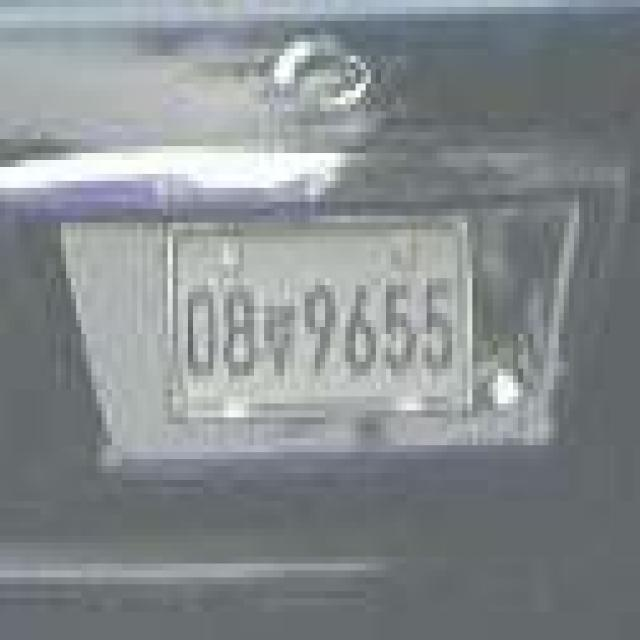illegal_plate: (158, 210, 492, 441)
